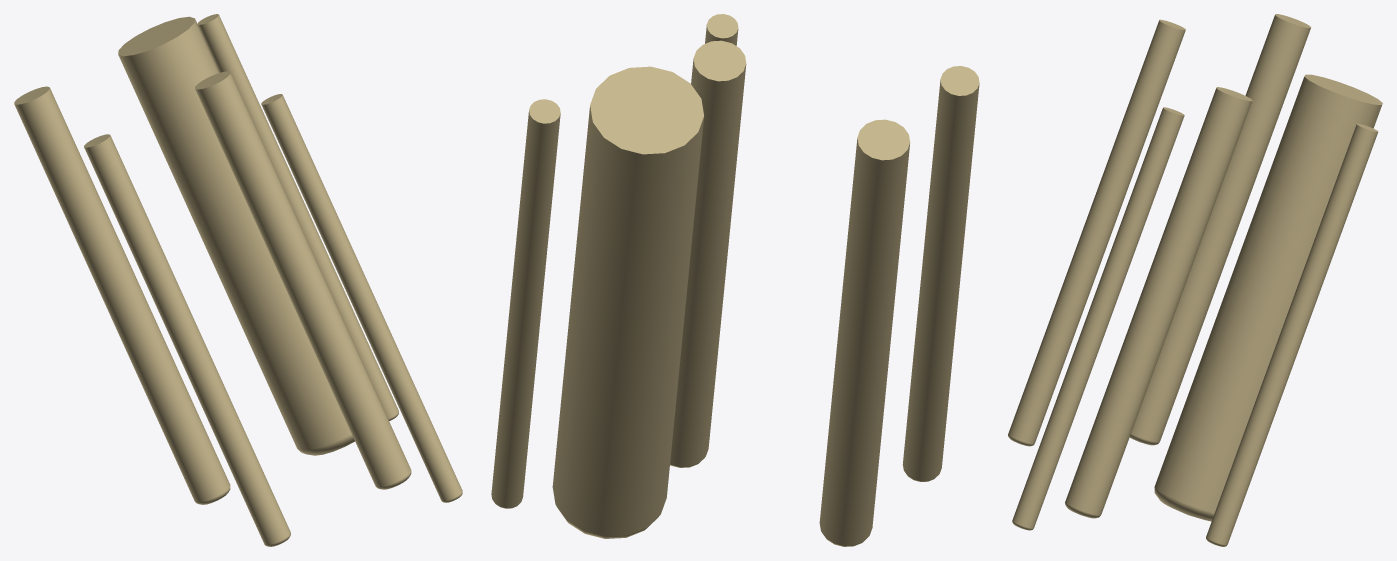
File: mall_volLightModel.fbx
The picture shows the model from 3 angles, left to right: view 1: azimuth 30°, elevation 25°; view 2: azimuth 150°, elevation 25°; view 3: azimuth 270°, elevation 25°; orthographic projection. The views are drawn at different scales.
Visible parts, largest first — view 1: volLightModel_b, volLightModel_c, volLightModel_f, volLightModel_g, volLightModel_d, volLightModel_e; view 2: volLightModel_b, volLightModel_f, volLightModel_c, volLightModel_g, volLightModel_e, volLightModel_d; view 3: volLightModel_b, volLightModel_c, volLightModel_f, volLightModel_g, volLightModel_d, volLightModel_e.
Part boxes in pixels (x1,y1,x2,y2): volLightModel_b: (118,16,354,455); volLightModel_c: (195,71,411,489); volLightModel_f: (14,86,230,504); volLightModel_g: (84,134,290,546); volLightModel_d: (261,94,462,502); volLightModel_e: (197,14,398,420); volLightModel_b: (552,66,703,538); volLightModel_f: (819,119,910,546); volLightModel_c: (670,40,746,467); volLightModel_g: (902,66,979,481); volLightModel_e: (491,99,560,508); volLightModel_d: (705,14,738,45); volLightModel_b: (1154,74,1382,521); volLightModel_c: (1065,87,1252,518); volLightModel_f: (1129,14,1311,445); volLightModel_g: (1008,19,1185,446); volLightModel_d: (1012,107,1184,530); volLightModel_e: (1206,123,1378,546).
Size of the model in its own units: 5308 by 5927 by 5056.
